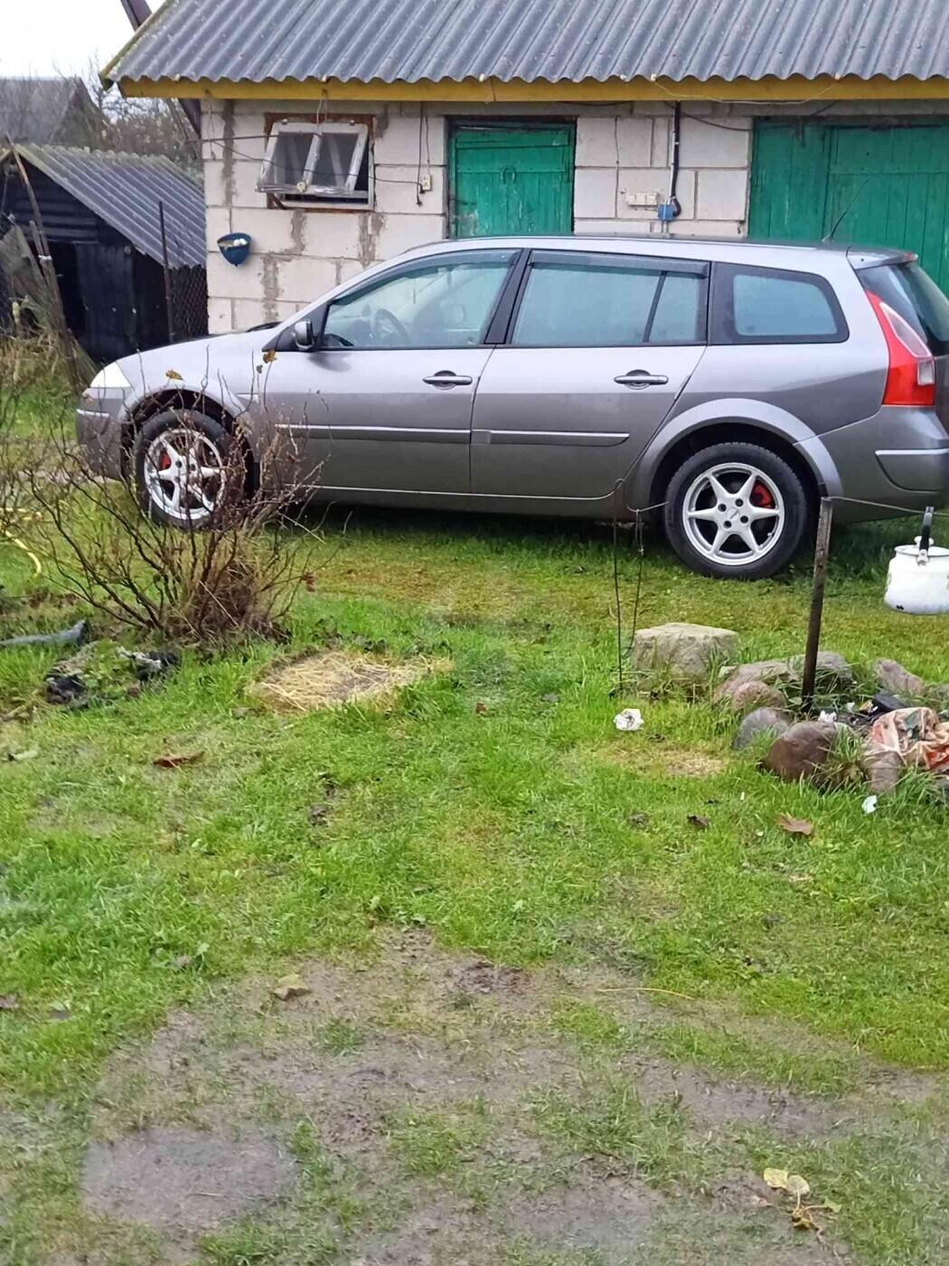Megane_2005-2009: (69, 226, 949, 582)
